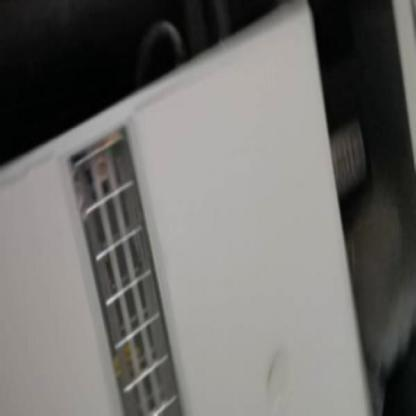light_off: (54, 103, 198, 415)
